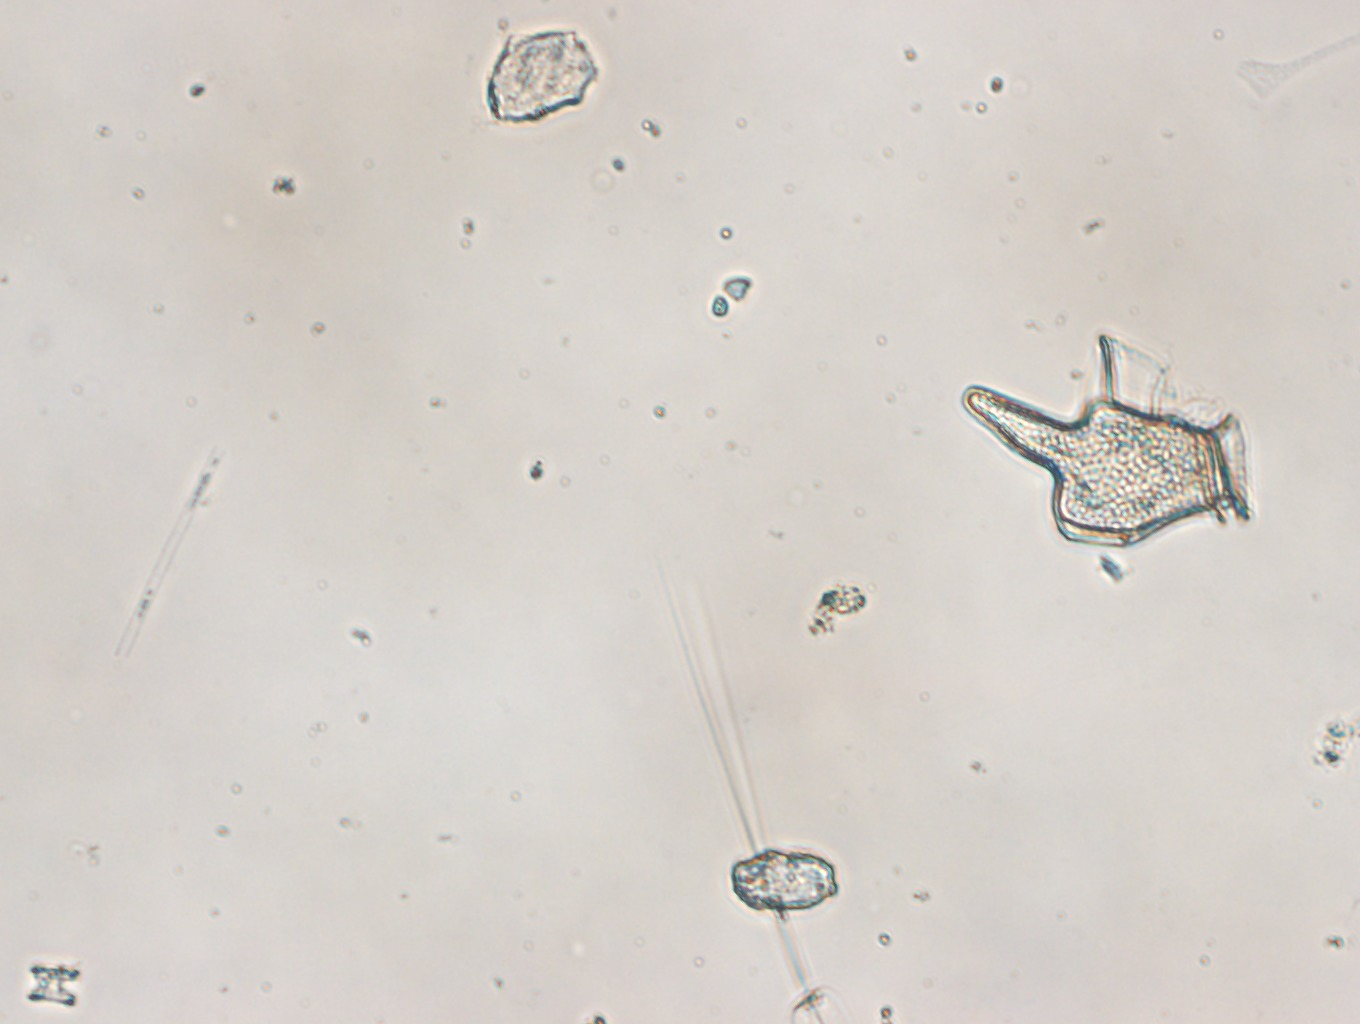dinophysis caudata: (961, 331, 1257, 549)
